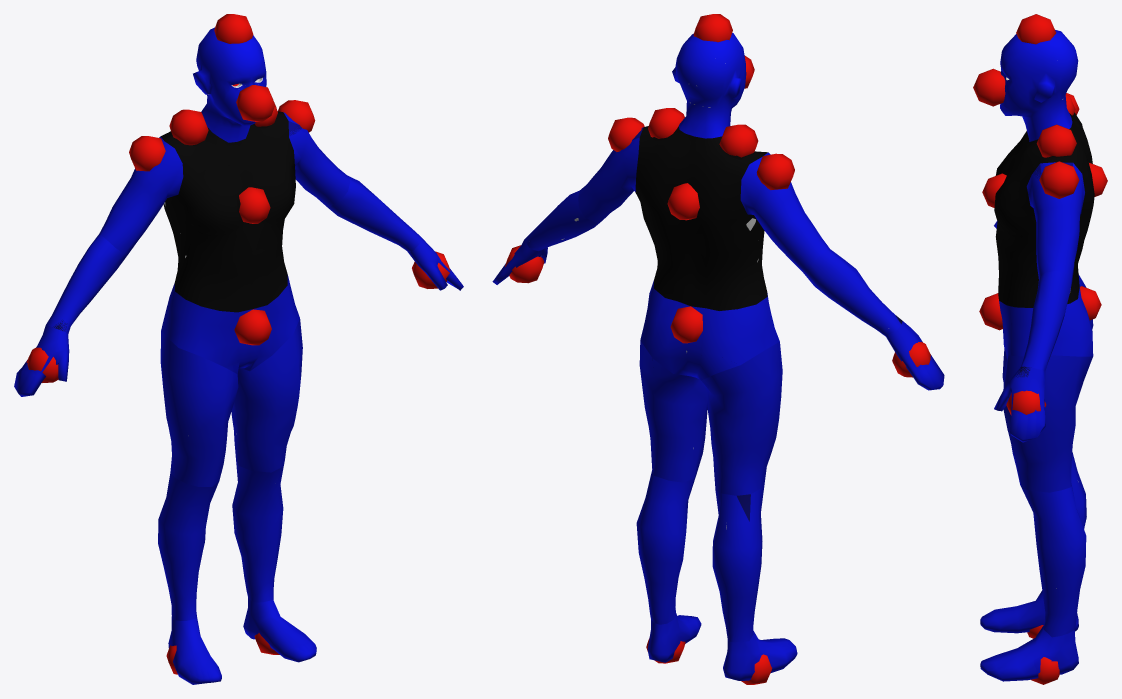
File: Daz_Cage_Att_Template.fbx
3 views of the same model, side by side, from view 1: azimuth 30°, elevation 25°; view 2: azimuth 150°, elevation 25°; view 3: azimuth 270°, elevation 25° (orthographic).
Parts seen in each view (by area): view 1: UpperTorso_OuterCage, RightUpperLeg_OuterCage, LeftUpperLeg_OuterCage, LowerTorso_OuterCage, RightLowerLeg_OuterCage, LeftLowerLeg_OuterCage, Head_OuterCage, RightUpperArm_OuterCage, RightLowerArm_OuterCage, LeftLowerArm_OuterCage, LeftUpperArm_OuterCage, LeftFoot_OuterCage (+12 smaller); view 2: UpperTorso_OuterCage, RightUpperLeg_OuterCage, LowerTorso_OuterCage, LeftUpperLeg_OuterCage, RightLowerLeg_OuterCage, LeftLowerLeg_OuterCage, Head_OuterCage, RightUpperArm_OuterCage, RightLowerArm_OuterCage, LeftUpperArm_OuterCage, RightFoot_OuterCage, LeftLowerArm_OuterCage (+11 smaller); view 3: UpperTorso_OuterCage, LeftUpperLeg_OuterCage, LeftLowerLeg_OuterCage, Head_OuterCage, LeftUpperArm_OuterCage, LowerTorso_OuterCage, LeftFoot_OuterCage, LeftLowerArm_OuterCage, LeftHand_OuterCage, RightFoot_OuterCage, LeftShoulder_Att, LeftCollar_Att (+10 smaller).
Boxes of the visible parts, x1,y1,x2,y2 form: UpperTorso_OuterCage: (161, 111, 295, 312); RightUpperLeg_OuterCage: (160, 330, 238, 486); LeftUpperLeg_OuterCage: (231, 319, 302, 472); LowerTorso_OuterCage: (161, 275, 299, 373); RightLowerLeg_OuterCage: (158, 473, 219, 620); LeftLowerLeg_OuterCage: (232, 460, 284, 602); Head_OuterCage: (193, 27, 266, 142); RightUpperArm_OuterCage: (99, 136, 183, 255); RightLowerArm_OuterCage: (46, 234, 127, 334); LeftLowerArm_OuterCage: (328, 175, 422, 251); LeftUpperArm_OuterCage: (283, 112, 350, 207); LeftFoot_OuterCage: (243, 597, 316, 662); UpperTorso_OuterCage: (635, 126, 767, 310); RightUpperLeg_OuterCage: (701, 341, 782, 495); LowerTorso_OuterCage: (640, 280, 779, 380); LeftUpperLeg_OuterCage: (639, 341, 707, 482); RightLowerLeg_OuterCage: (712, 484, 764, 642); LeftLowerLeg_OuterCage: (636, 470, 696, 624); Head_OuterCage: (672, 33, 746, 138); RightUpperArm_OuterCage: (740, 152, 829, 271); RightLowerArm_OuterCage: (802, 249, 900, 336); LeftUpperArm_OuterCage: (578, 127, 642, 222); RightFoot_OuterCage: (723, 631, 797, 680); LeftLowerArm_OuterCage: (524, 190, 601, 251); UpperTorso_OuterCage: (994, 113, 1094, 307); LeftUpperLeg_OuterCage: (1003, 355, 1092, 492); LeftLowerLeg_OuterCage: (1022, 483, 1086, 637); Head_OuterCage: (1000, 30, 1078, 141); LeftUpperArm_OuterCage: (1026, 162, 1084, 280); LowerTorso_OuterCage: (999, 274, 1093, 359); LeftFoot_OuterCage: (980, 625, 1078, 681); LeftLowerArm_OuterCage: (1021, 271, 1072, 371); LeftHand_OuterCage: (994, 367, 1045, 442); RightFoot_OuterCage: (980, 590, 1078, 633); LeftShoulder_Att: (1039, 161, 1079, 198); LeftCollar_Att: (1036, 124, 1076, 157).
Bounding box in the file's own units: 127 × 179 × 33.64.
